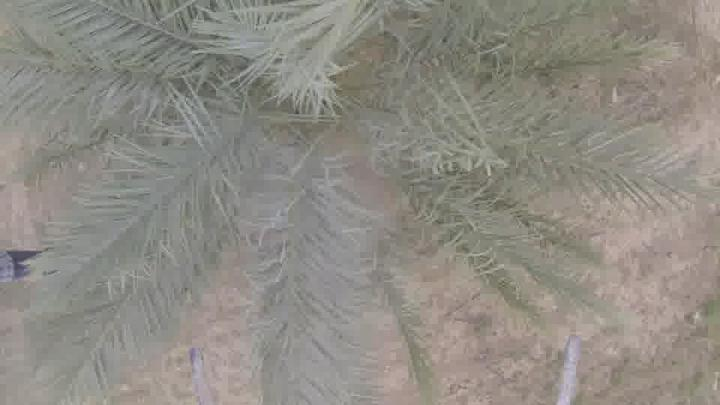Date-Palm-Crown: (108, 0, 466, 260)
